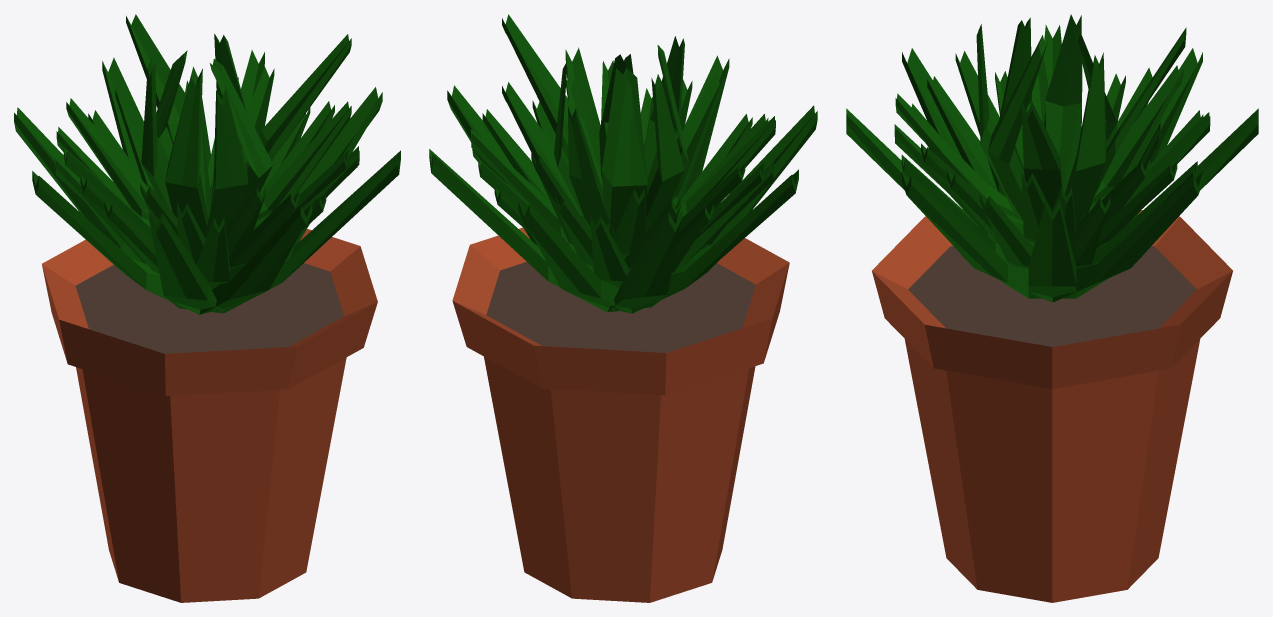
File: MateraConMata.fbx
3 renders of one model, left to right at view 1: azimuth 30°, elevation 25°; view 2: azimuth 150°, elevation 25°; view 3: azimuth 270°, elevation 25°, orthographic. The views are drawn at different scales.
Parts seen in each view (by area): view 1: MateraConMata; view 2: MateraConMata; view 3: MateraConMata.
Boxes of the visible parts, <box> form: MateraConMata: <box>14,14,400,602</box>; MateraConMata: <box>429,14,817,602</box>; MateraConMata: <box>846,14,1258,602</box>.
Bounding box in the file's own units: 258 × 365 × 258.
